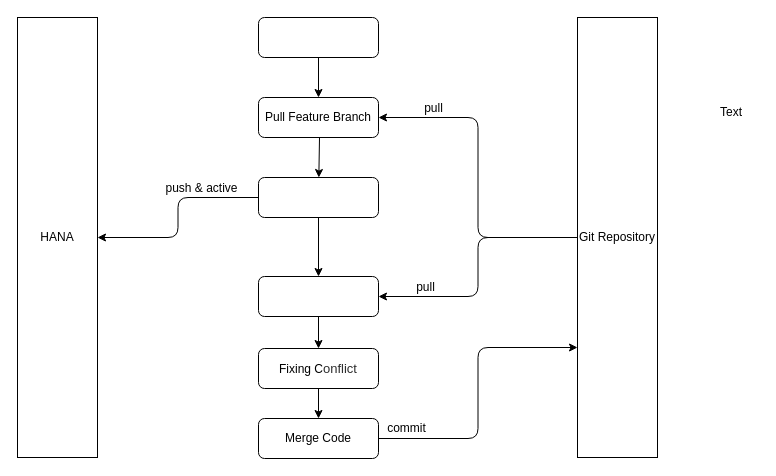
This 776x476 diagram has some shape labels left out. Each missing label, with the box of its shape:
Change Code: (258, 176, 378, 218)
Create Feature Branch: (258, 16, 378, 58)
Ready for Commit: (258, 276, 378, 316)
